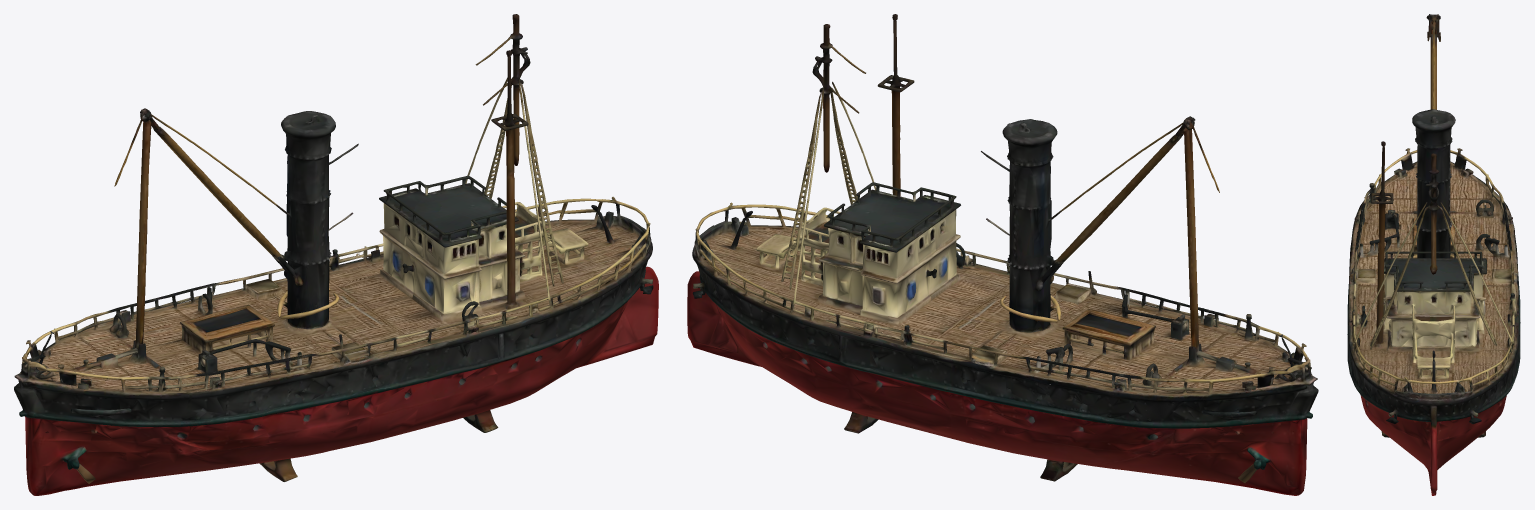
Rendered from steam-freighter.glb.
The picture shows the model from 3 angles, left to right: view 1: azimuth 30°, elevation 25°; view 2: azimuth 150°, elevation 25°; view 3: azimuth 270°, elevation 25°; orthographic projection. The views are drawn at different scales.
Visible parts, largest first — view 1: tripo_node_45e462f2-3ee5-4566-9efc-0c857fed6fee; view 2: tripo_node_45e462f2-3ee5-4566-9efc-0c857fed6fee; view 3: tripo_node_45e462f2-3ee5-4566-9efc-0c857fed6fee.
Part boxes in pixels (x1,y1,x2,y2): tripo_node_45e462f2-3ee5-4566-9efc-0c857fed6fee: (14,14,658,495); tripo_node_45e462f2-3ee5-4566-9efc-0c857fed6fee: (687,14,1318,495); tripo_node_45e462f2-3ee5-4566-9efc-0c857fed6fee: (1347,14,1520,495).
Size of the model in its own units: 0.9795 by 0.5558 by 0.2863.
Materials: 1 (1 with a texture image).
